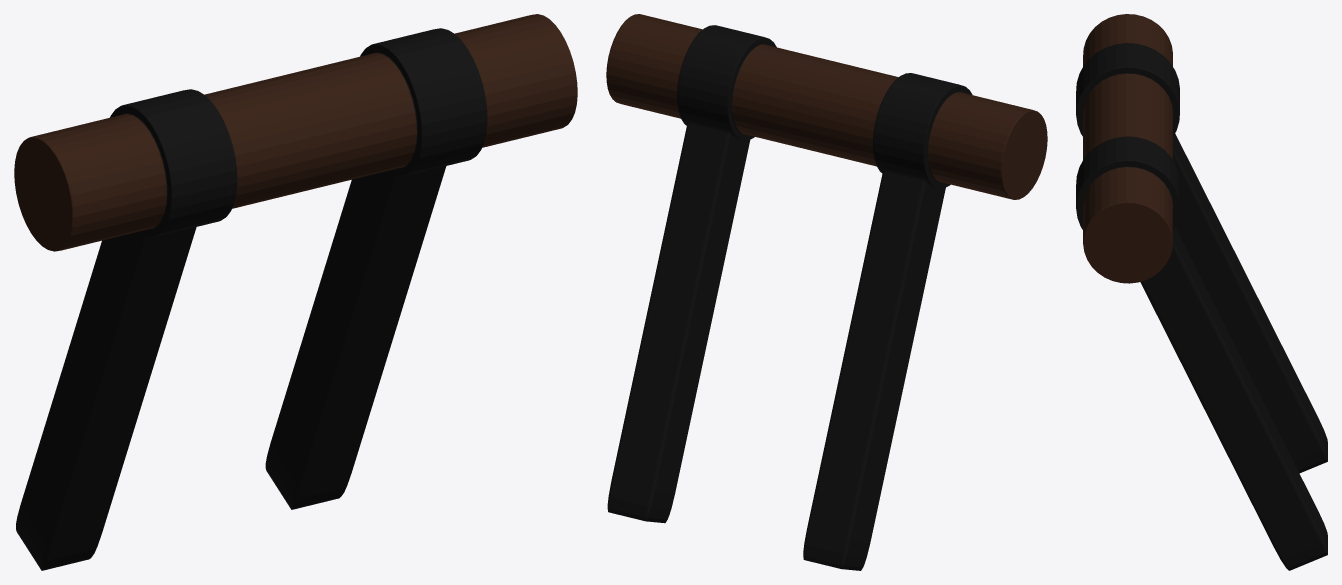
File: 3D_Lever_Handle.fbx
3 views of the same model, side by side, from view 1: azimuth 30°, elevation 25°; view 2: azimuth 150°, elevation 25°; view 3: azimuth 270°, elevation 25° (orthographic). The views are drawn at different scales.
Visible parts, largest first — view 1: Cylinder.001; view 2: Cylinder.001; view 3: Cylinder.001.
Part boxes in pixels (left/top/right/bottom): Cylinder.001: left=14, top=14, right=577, bottom=570; Cylinder.001: left=606, top=14, right=1047, bottom=570; Cylinder.001: left=1076, top=14, right=1327, bottom=570.
Bounding box in the file's own units: 200 × 204 × 113.
